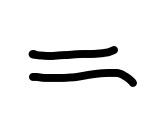eqv: (29, 45, 137, 87)
